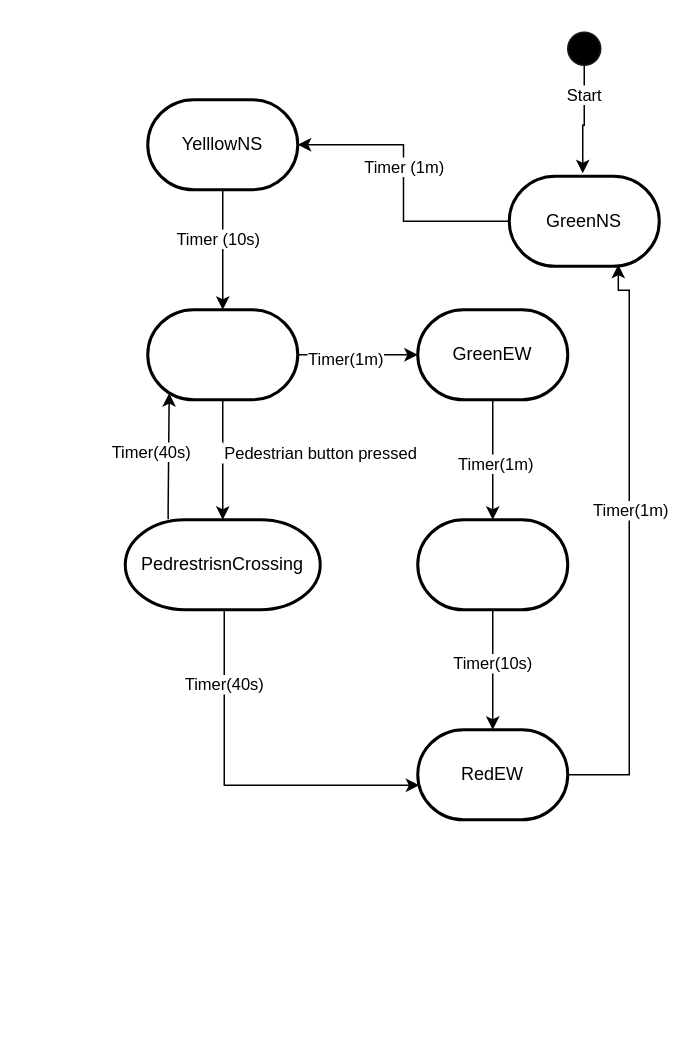
This 693x1056 diagram has some shape labels left out. The shapes that lost their labels are listed below. From the top down, each one's box as (x1, y1, x2, y2) in pixels, then its label:
(146, 308, 298, 400): RedNS
(416, 518, 568, 610): YellowEW
